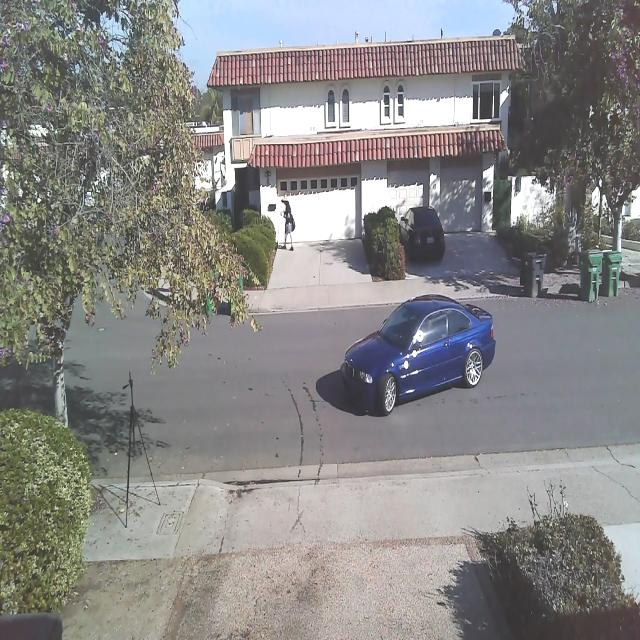Carbeetle: (336, 285, 508, 424)
Civilian: (399, 205, 445, 263)
